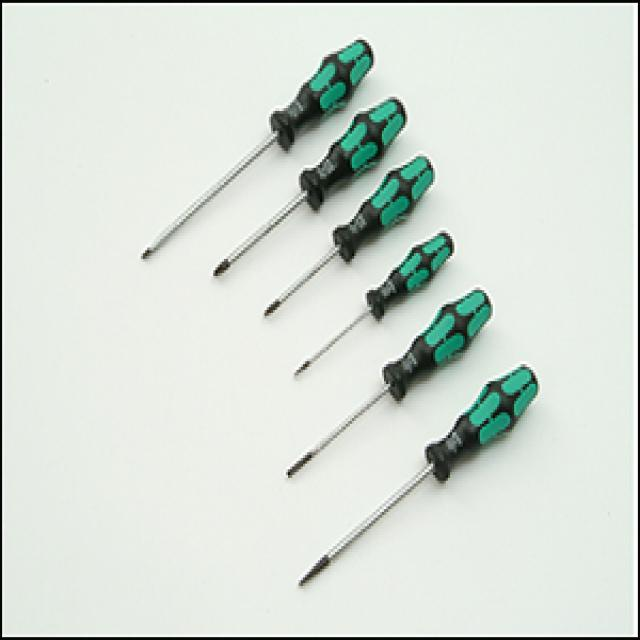screwdriver: (122, 32, 376, 280), (290, 361, 542, 596), (276, 282, 498, 487), (210, 92, 416, 284), (258, 154, 434, 326), (285, 225, 455, 379)
